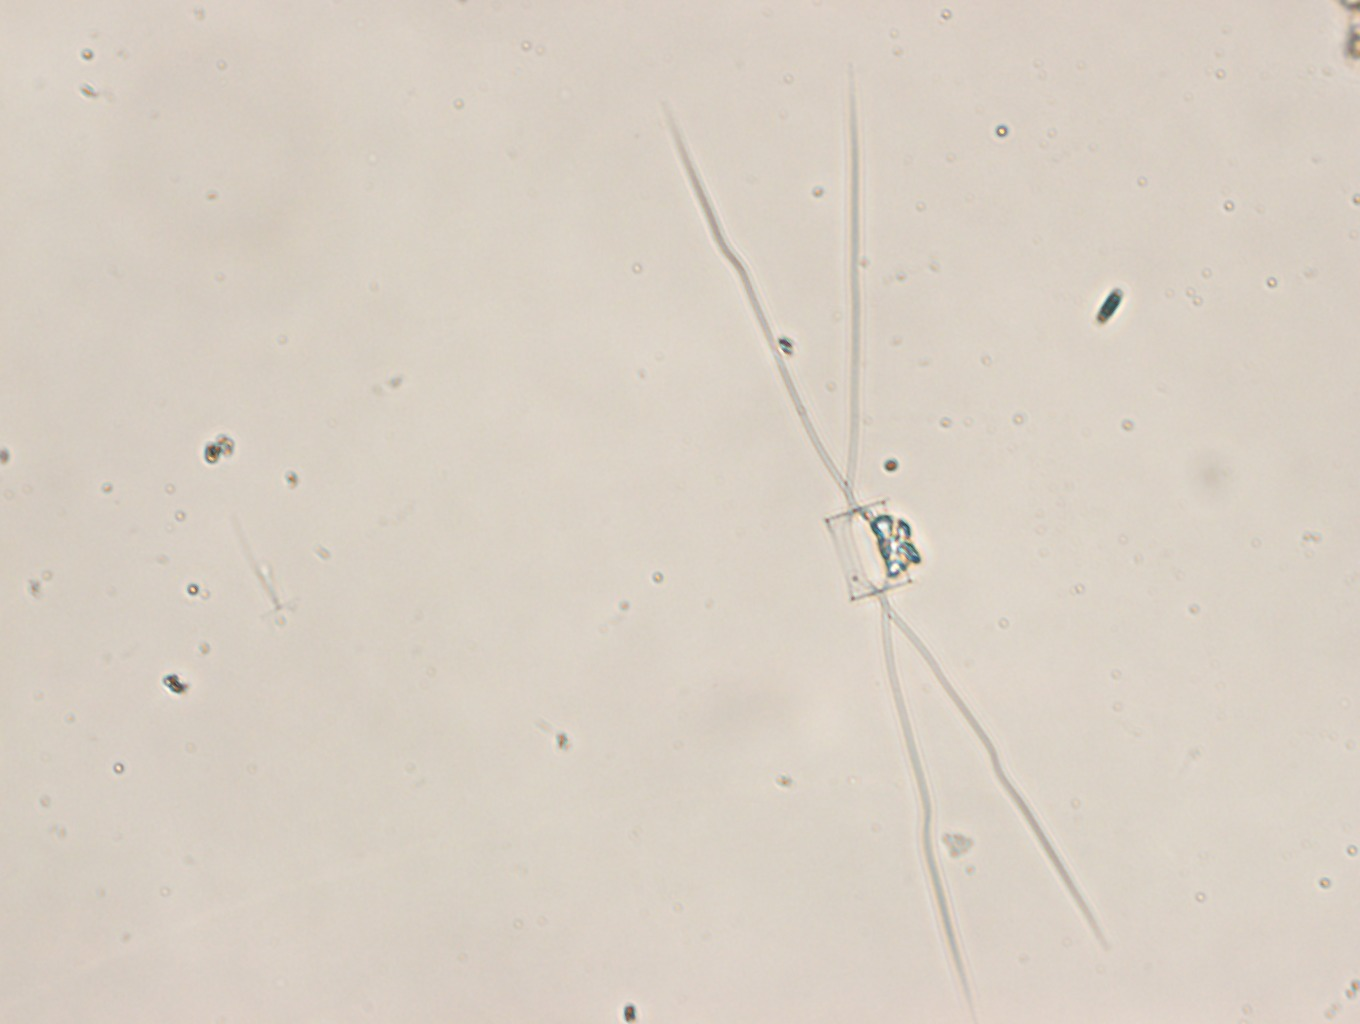chaetoceros: (655, 66, 1108, 1015)
